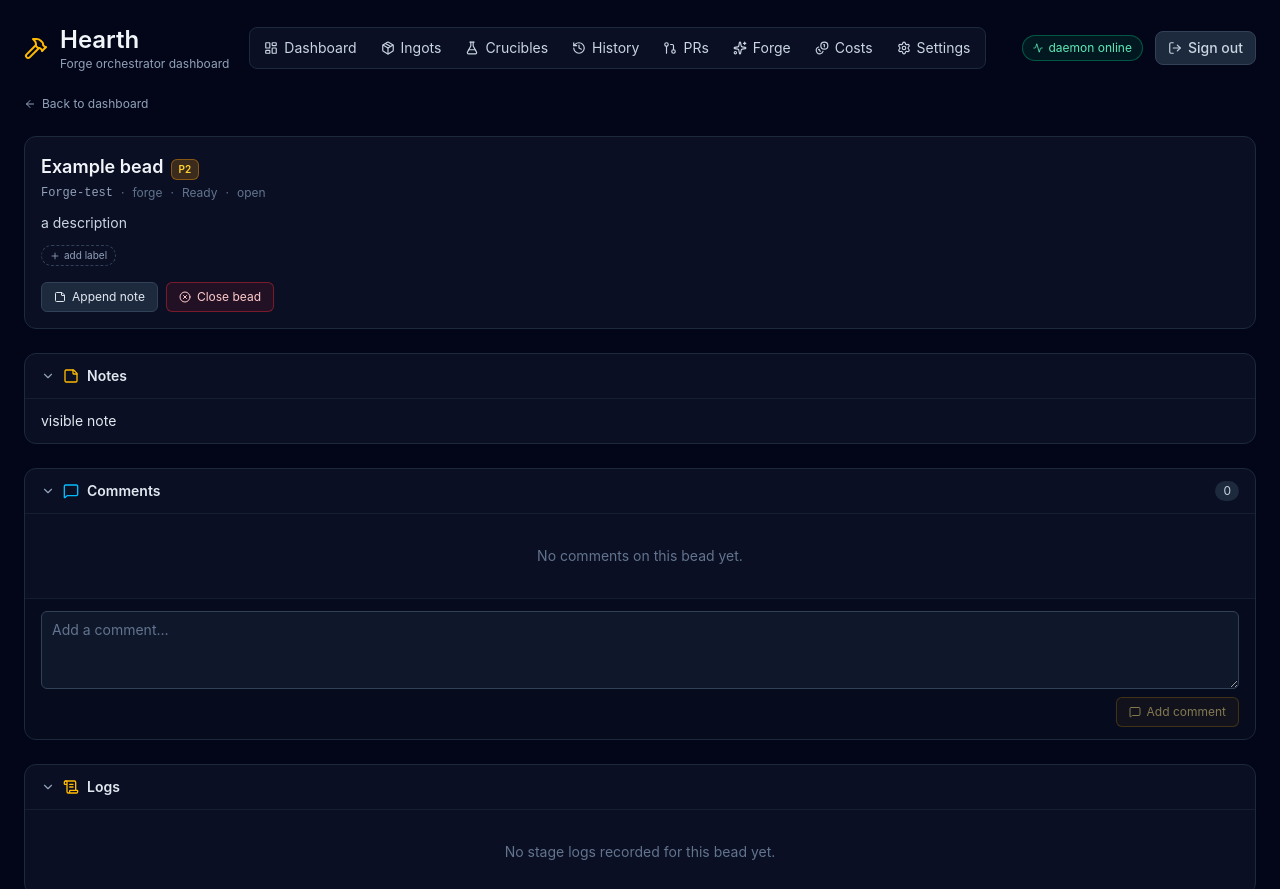
BeadDetailPage notes and comments panels › collapses a panel when its header is clicked
This screenshot has width=1280, height=889.
Expected: the text "visible note" is shown, [41, 412, 116, 429]
Click the button "Notes" at (107, 376), box [25, 354, 1255, 398]
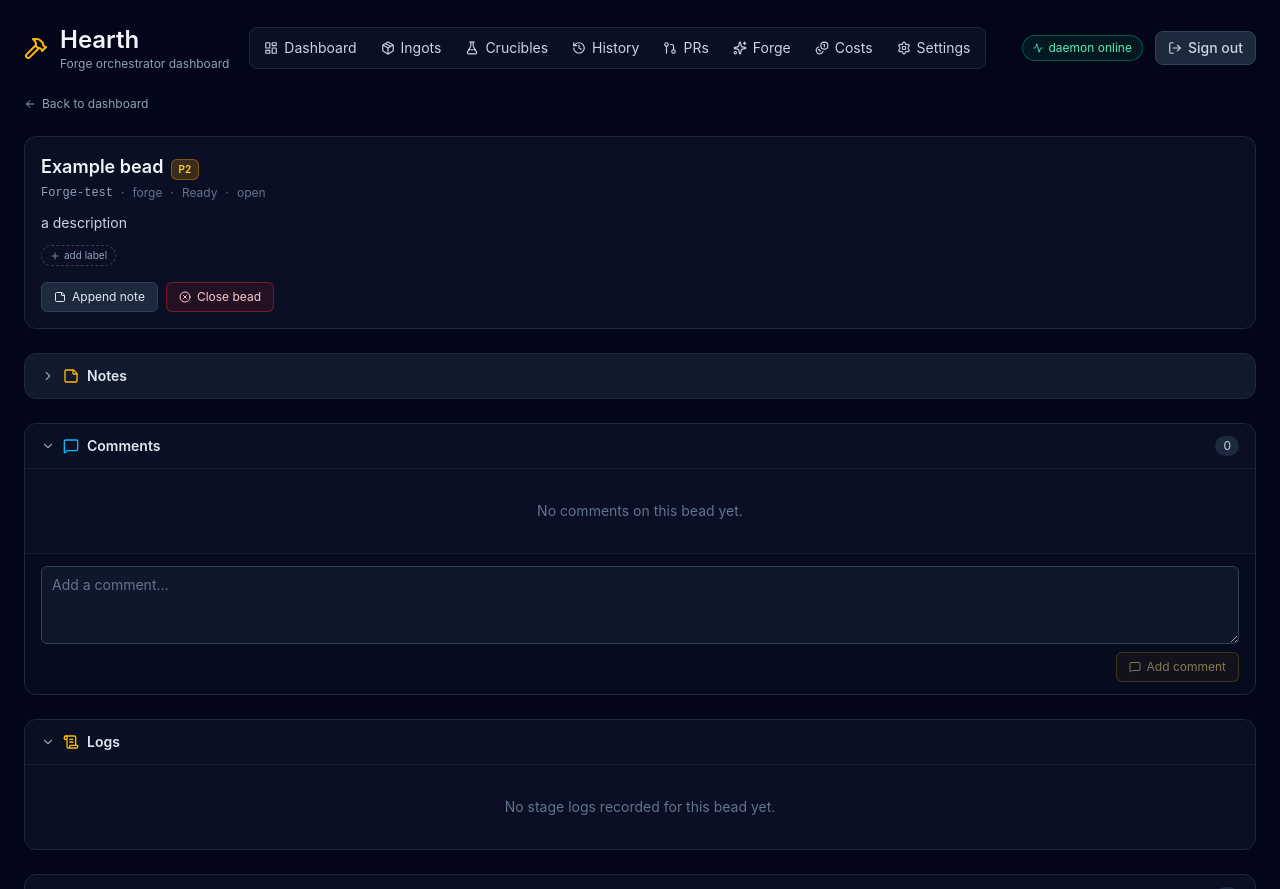
Expected: the text "visible note" is gone
